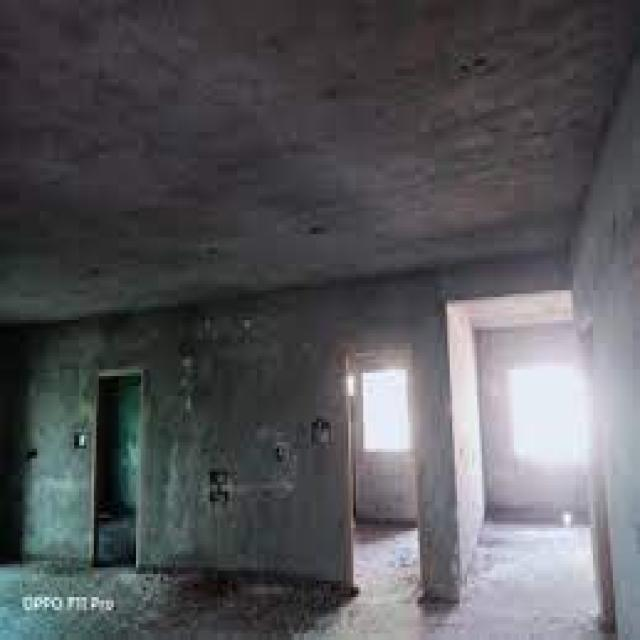floor: (0, 507, 610, 640)
wall: (0, 253, 573, 609), (571, 35, 640, 640), (478, 325, 592, 522), (446, 303, 485, 605), (354, 373, 417, 526)
